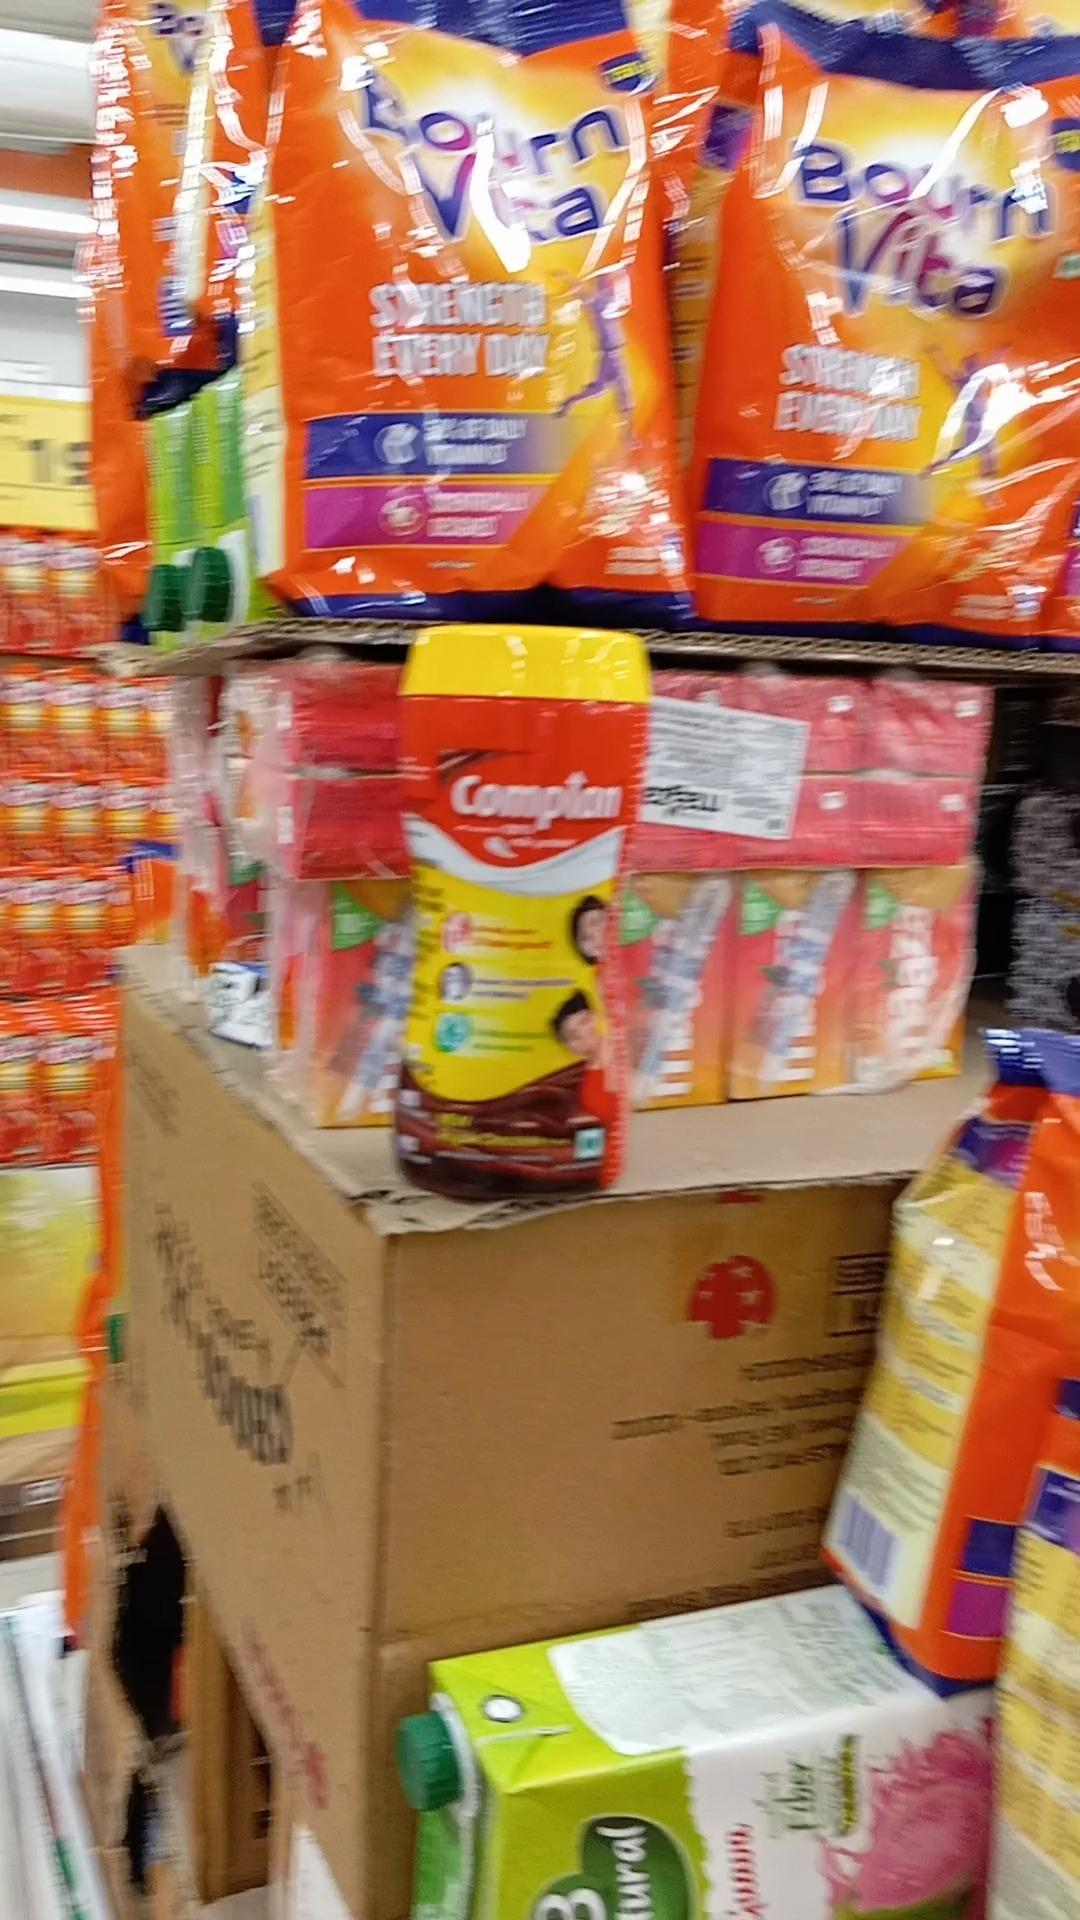COMPLAN_CHOCOLATE_200_GMS_JAR: (400, 617, 622, 1189)
